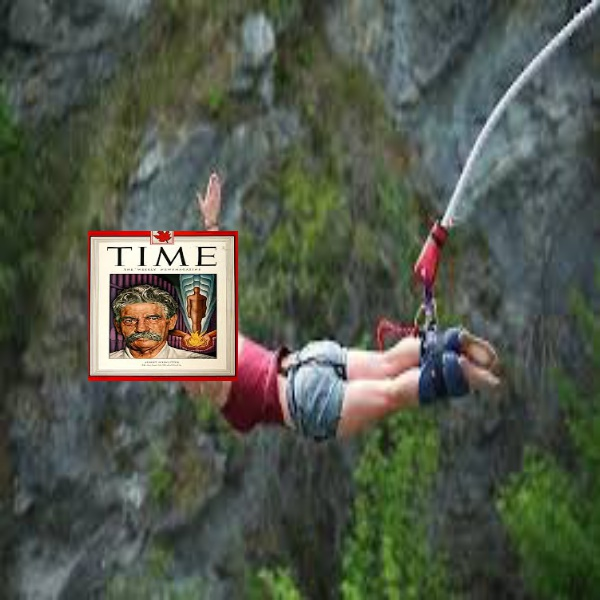time_cover: (85, 219, 247, 391)
